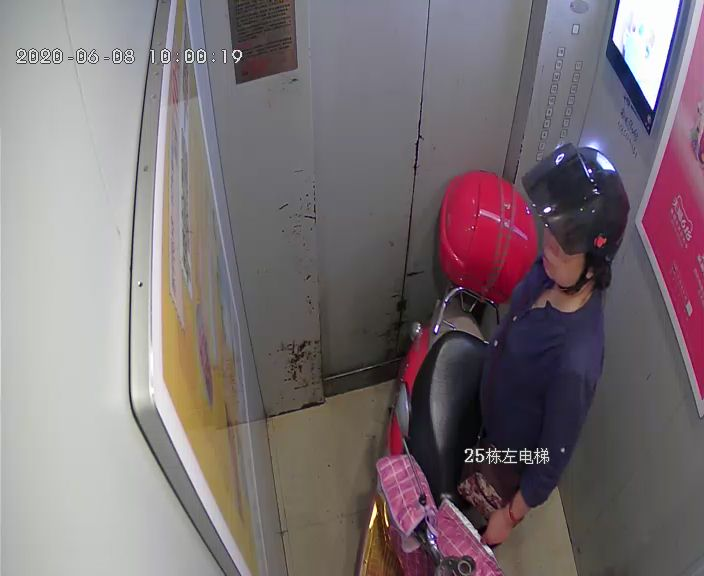Electric-bicycle: (391, 174, 533, 575)
